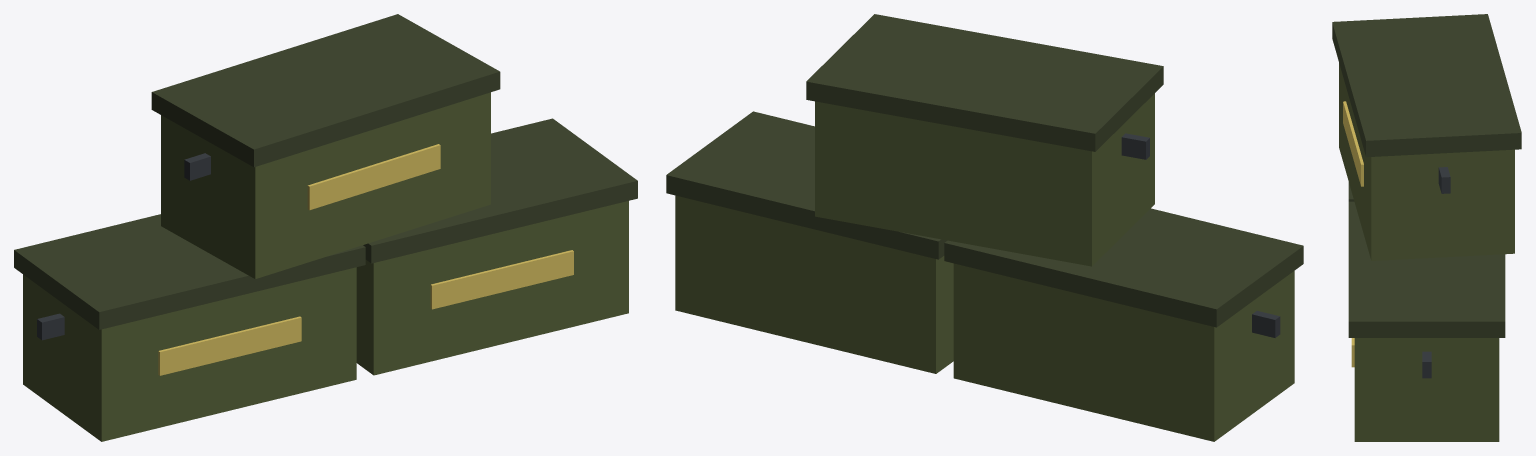
File: ammo_stack.glb
3 views of the same model, side by side, from view 1: azimuth 30°, elevation 25°; view 2: azimuth 150°, elevation 25°; view 3: azimuth 270°, elevation 25° (orthographic). The views are drawn at different scales.
Visible parts, largest first — view 1: ammo_stack; view 2: ammo_stack; view 3: ammo_stack.
Boxes of the visible parts, x1,y1,x2,y2 form: ammo_stack: [14, 14, 637, 441]; ammo_stack: [666, 14, 1303, 441]; ammo_stack: [1332, 14, 1521, 441].
Size of the model in its own units: 2.02 by 0.9 by 0.6288.
